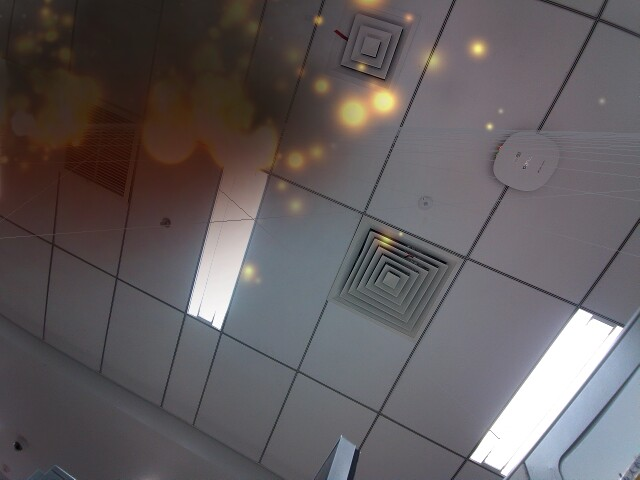fire: (200, 112, 285, 177), (137, 111, 194, 166)
